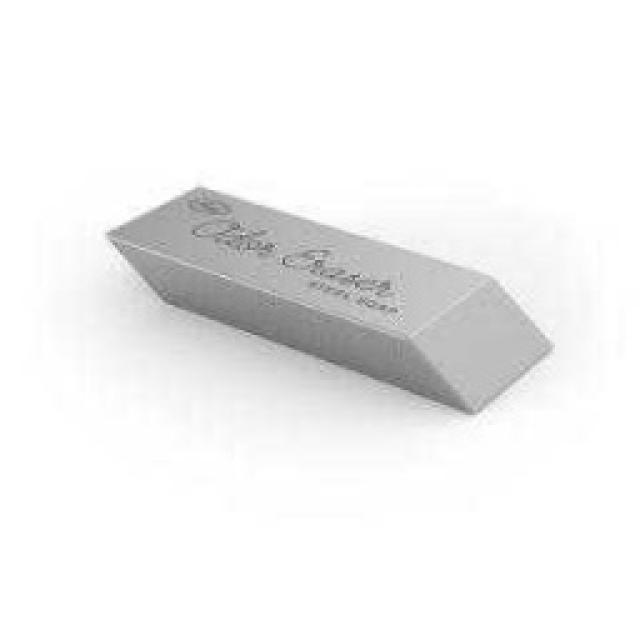Silgi: (101, 178, 558, 415)
